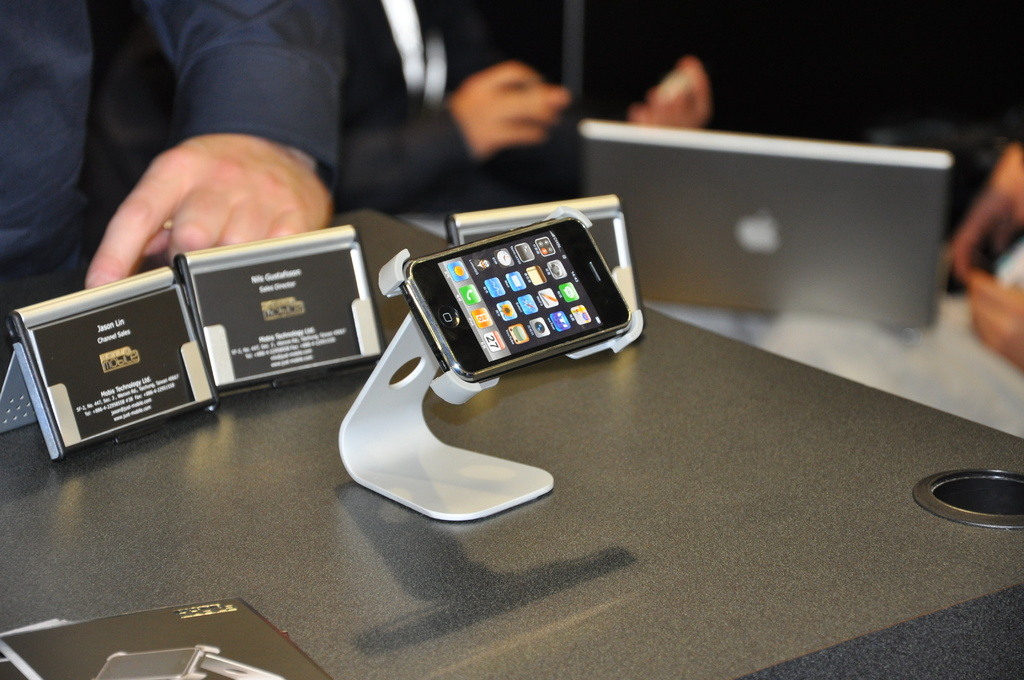Mobile-phone: (407, 213, 630, 379)
